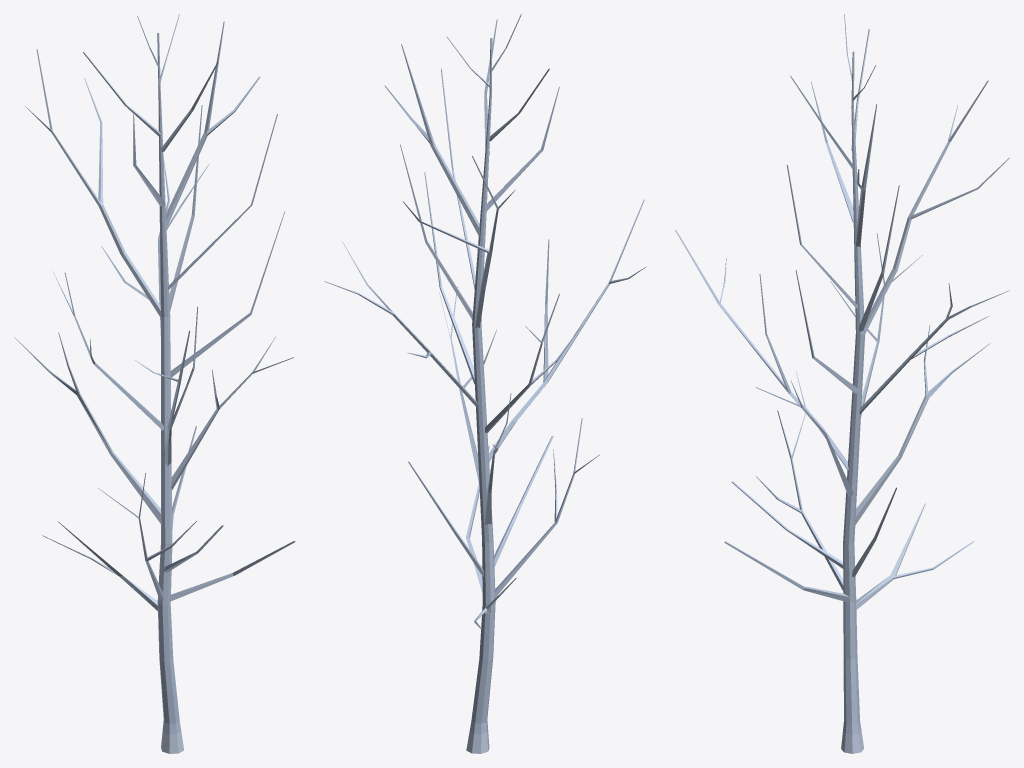
Rendered from Dead_Tree_Dynamic_03.fbx.
3 views of the same model, side by side, from view 1: azimuth 30°, elevation 25°; view 2: azimuth 150°, elevation 25°; view 3: azimuth 270°, elevation 25° (orthographic). The views are drawn at different scales.
Visible parts, largest first — view 1: SM_Town_Tree_Dead_03_Dynamic.mo; view 2: SM_Town_Tree_Dead_03_Dynamic.mo; view 3: SM_Town_Tree_Dead_03_Dynamic.mo.
Boxes of the visible parts, x1,y1,x2,y2 form: SM_Town_Tree_Dead_03_Dynamic.mo: (14,14,295,753); SM_Town_Tree_Dead_03_Dynamic.mo: (324,14,646,753); SM_Town_Tree_Dead_03_Dynamic.mo: (675,14,1009,753).
Bounding box in the file's own units: 104 × 380 × 161.
1 material, 1 textured.
